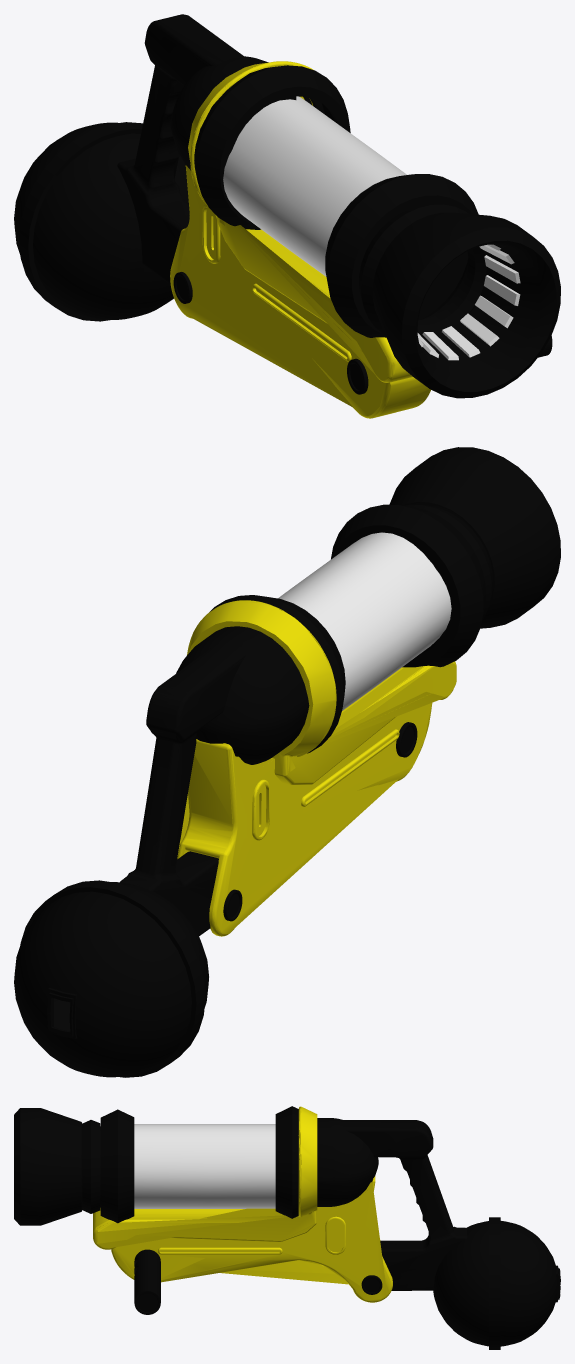
File: Casual gun.fbx
3 views of the same model, one above another, from view 1: azimuth 30°, elevation 25°; view 2: azimuth 150°, elevation 25°; view 3: azimuth 270°, elevation 25° (orthographic). The views are drawn at different scales.
Parts seen in each view (by area): view 1: Rear_Ball_with_hole_for_handle.003; view 2: Rear_Ball_with_hole_for_handle.003; view 3: Rear_Ball_with_hole_for_handle.003.
Part boxes in pixels (x1,y1,x2,y2): Rear_Ball_with_hole_for_handle.003: [14, 14, 560, 418]; Rear_Ball_with_hole_for_handle.003: [14, 447, 560, 1077]; Rear_Ball_with_hole_for_handle.003: [14, 1106, 560, 1349].
Bounding box in the file's own units: 886 × 1247 × 2657.
